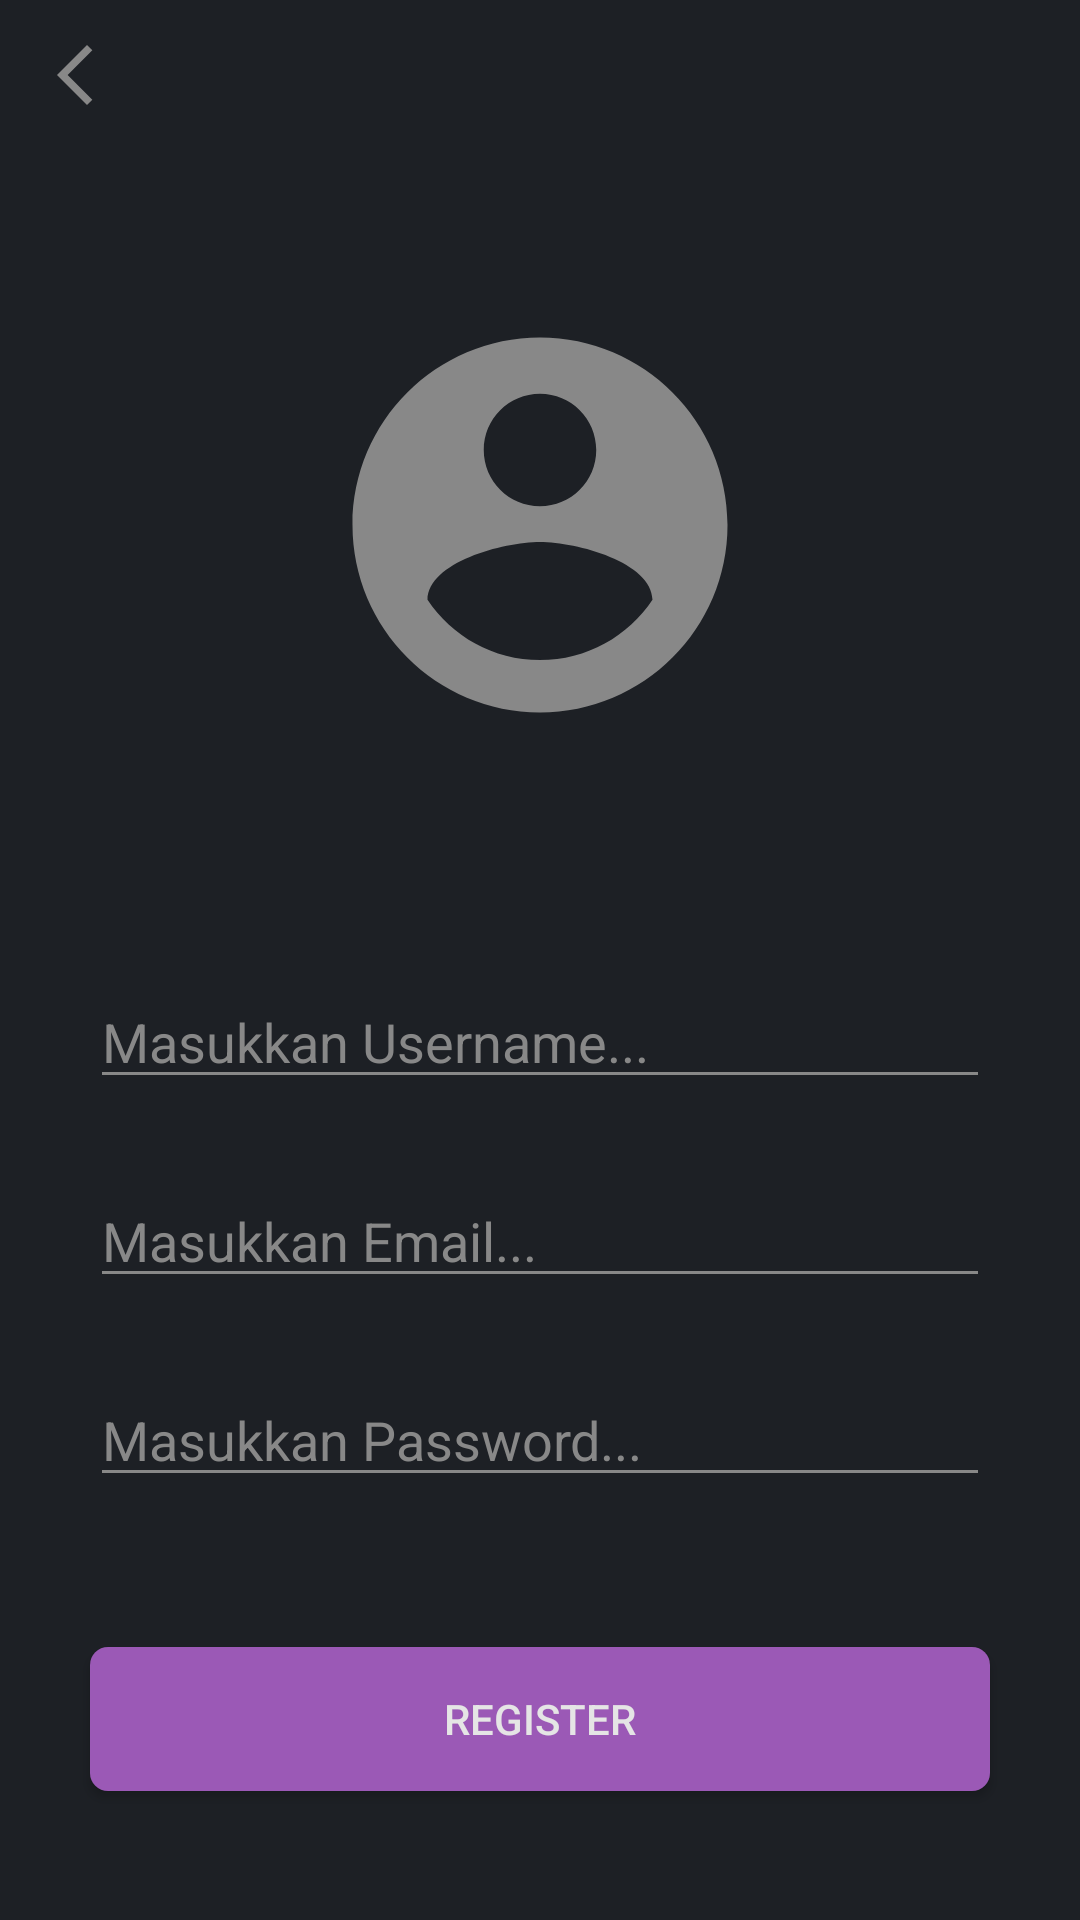

Where icons sit on this 1080px x 1920px app screen, as (x1, y1, x2, y2):
back: (57, 45, 92, 105)
